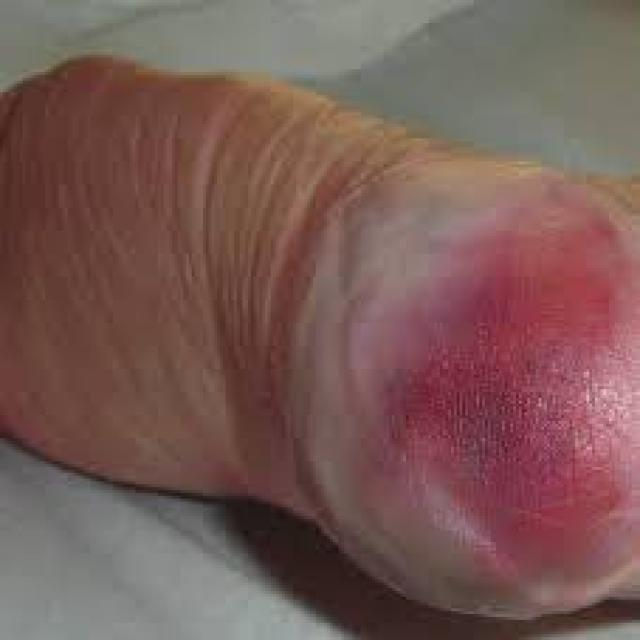DTI: (362, 207, 630, 588)
